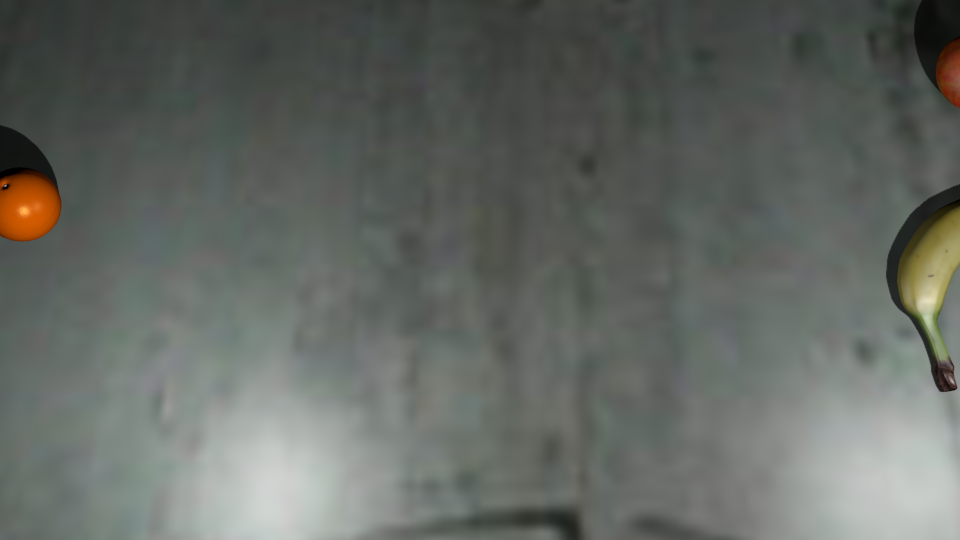apple: (937, 49, 960, 109)
banana: (898, 208, 960, 392)
orange: (1, 176, 61, 242)
